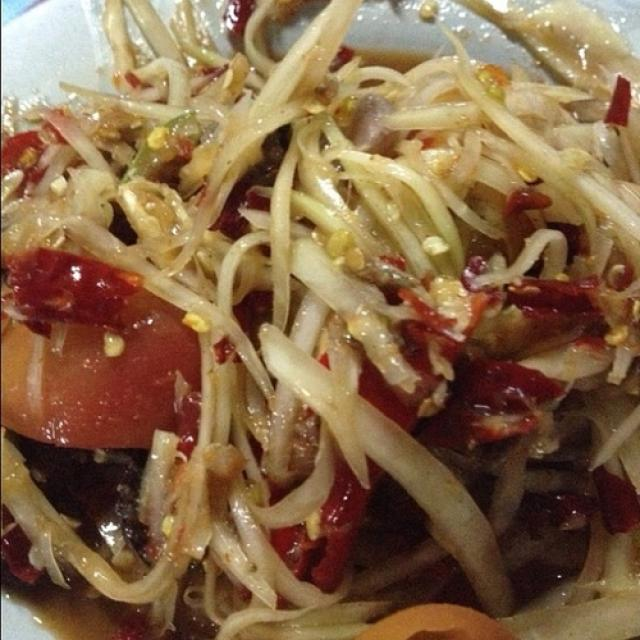蔬菜料理: (11, 10, 621, 618)
